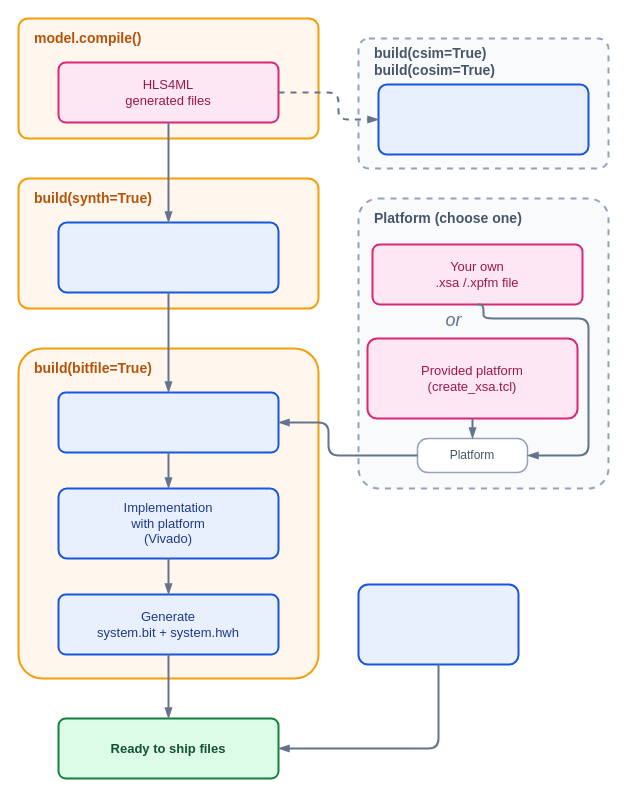
Image size: 626x796. Some labels were removed from this diagram. The box of each missing label's shape, as (x1, y1, x2, y2) in pixels:
C simulation / co-simulation (optional): (377, 83, 589, 155)
C synthesis + package kernel (v++ / vitis-run): (57, 221, 279, 293)
Linker (v++): (57, 391, 279, 453)
Python driver (axi_master_driver.py or axi_stream_driver.py): (357, 583, 519, 665)
